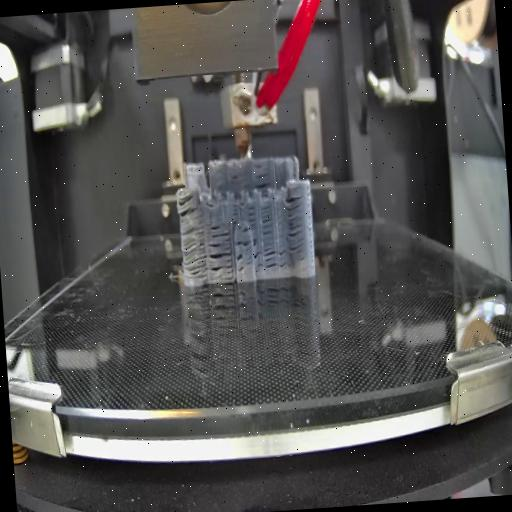cracks: (180, 228, 208, 279), (284, 192, 306, 251), (208, 242, 233, 276), (177, 193, 201, 217), (259, 205, 274, 238), (208, 222, 232, 242), (252, 237, 262, 273), (278, 244, 290, 271), (264, 248, 278, 270), (236, 252, 246, 276), (231, 204, 241, 226), (246, 206, 258, 224), (236, 237, 252, 250), (255, 174, 269, 188), (232, 172, 248, 180), (240, 226, 250, 234), (254, 165, 266, 170)
